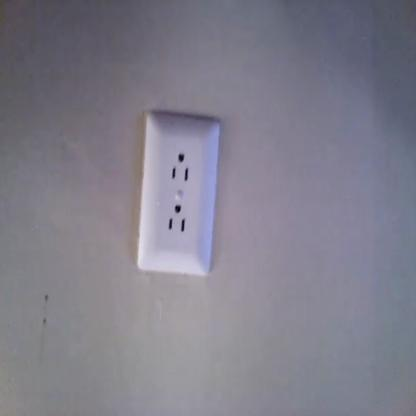OUTLET: (140, 112, 218, 272)
